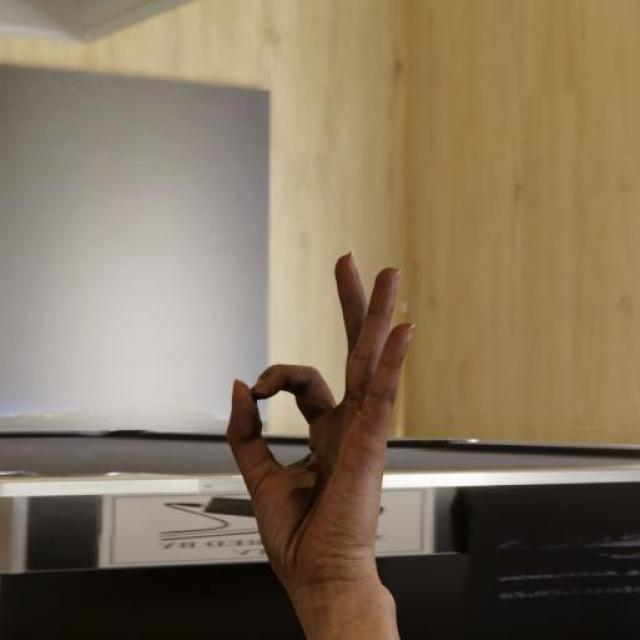F: (223, 248, 418, 592)
